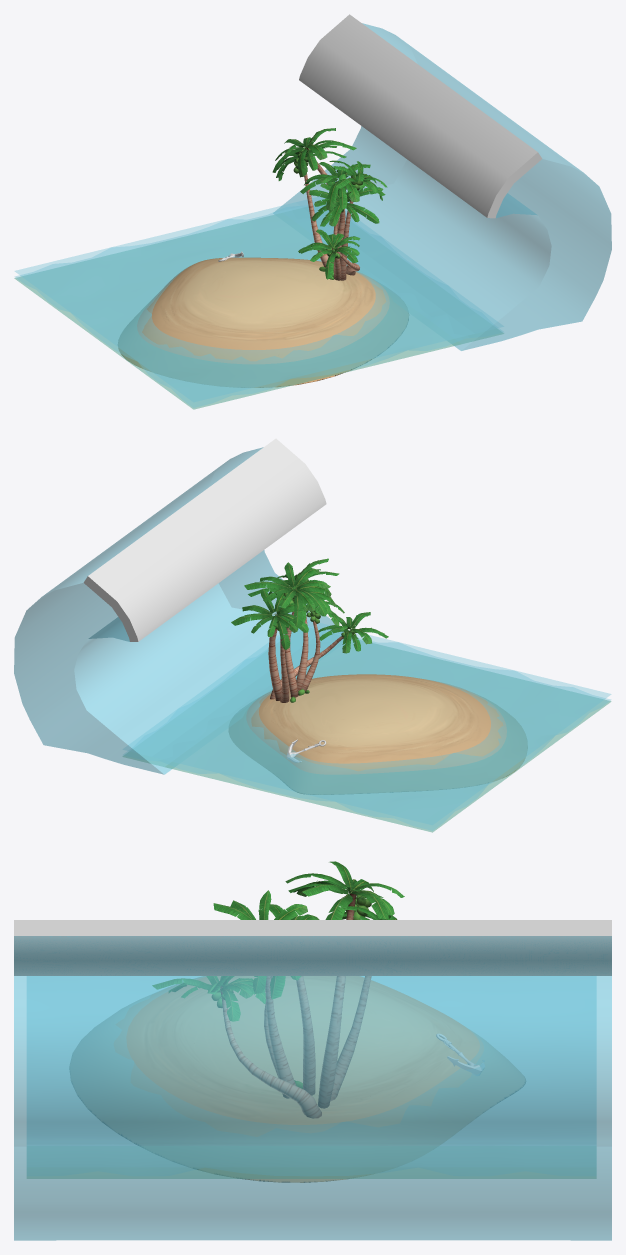
Rendered from CastAway_Map.fbx.
The picture shows the model from 3 angles, top to bottom: view 1: azimuth 30°, elevation 25°; view 2: azimuth 150°, elevation 25°; view 3: azimuth 270°, elevation 25°; orthographic projection. The views are drawn at different scales.
Parts seen in each view (by area): view 1: Cube, Plane.005, Sphere, Plane.004, Plane.003, Cube.002; view 2: Cube, Plane.005, Plane.004, Sphere, Plane.003, Cube.002, BezierCurve; view 3: Cube, Sphere, Cube.002, Plane.005, Plane.003, Plane.004, BezierCurve, BezierCurve.005, BezierCurve.001, BezierCurve.016, BezierCurve.003.
Part boxes in pixels (x1,y1,x2,y2): Cube: [273, 23, 611, 350]; Plane.005: [15, 197, 503, 401]; Sphere: [118, 257, 408, 387]; Plane.004: [15, 207, 503, 407]; Plane.003: [14, 213, 503, 409]; Cube.002: [299, 14, 542, 218]; Cube: [14, 447, 342, 774]; Plane.005: [123, 620, 611, 824]; Plane.004: [123, 632, 610, 830]; Sphere: [229, 674, 527, 794]; Plane.003: [122, 639, 611, 832]; Cube.002: [83, 438, 326, 641]; BezierCurve: [268, 614, 281, 700]; Cube: [14, 936, 611, 1240]; Sphere: [70, 976, 525, 1182]; Cube.002: [14, 920, 611, 975]; Plane.005: [27, 1144, 596, 1166]; Plane.003: [27, 1167, 596, 1178]; Plane.004: [27, 1167, 596, 1175]; BezierCurve: [318, 893, 356, 1108]; BezierCurve.005: [220, 987, 321, 1118]; BezierCurve.001: [296, 976, 315, 1095]; BezierCurve.016: [330, 976, 371, 1100]; BezierCurve.003: [265, 976, 295, 1098].
Size of the model in its own units: 7294 by 3232 by 5744.
5 materials, 2 textured.
